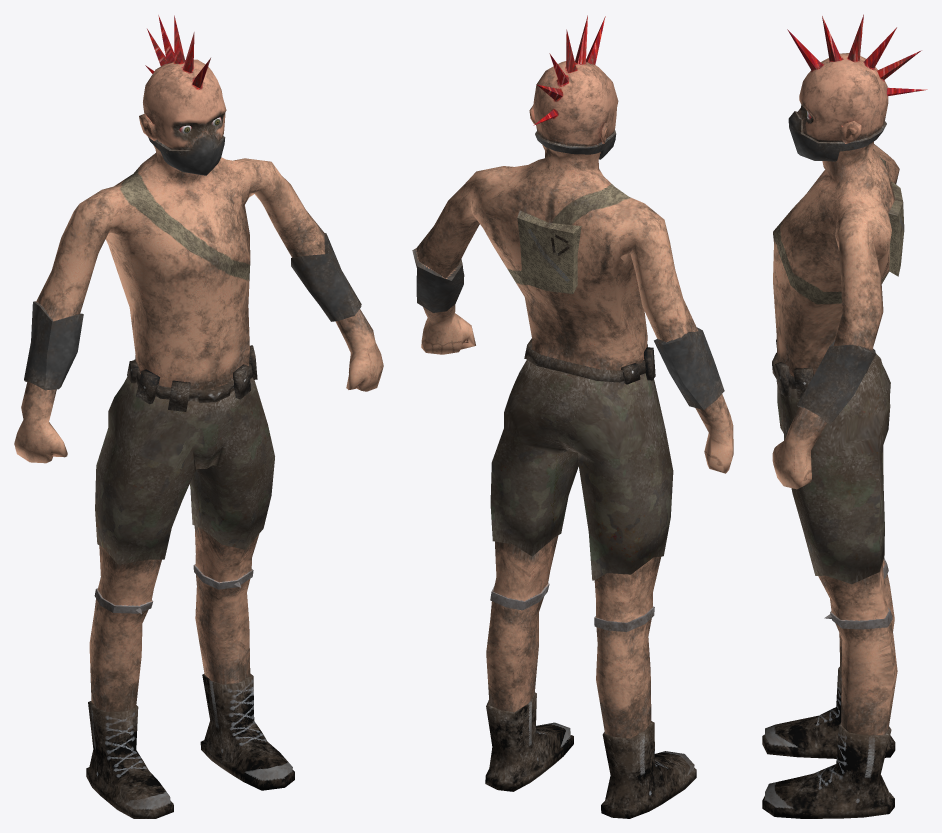
The model's file is Anim_idle_npc2.0018.obj.
3 views of the same model, side by side, from view 1: azimuth 30°, elevation 25°; view 2: azimuth 150°, elevation 25°; view 3: azimuth 270°, elevation 25° (orthographic).
Parts seen in each view (by area): view 1: polySurface1; view 2: polySurface1; view 3: polySurface1.
Part boxes in pixels (<box>): polySurface1: <box>14,15,383,818</box>; polySurface1: <box>412,15,733,818</box>; polySurface1: <box>762,14,927,818</box>.
Bounding box in the file's own units: 4.76 × 10.18 × 1.99.
